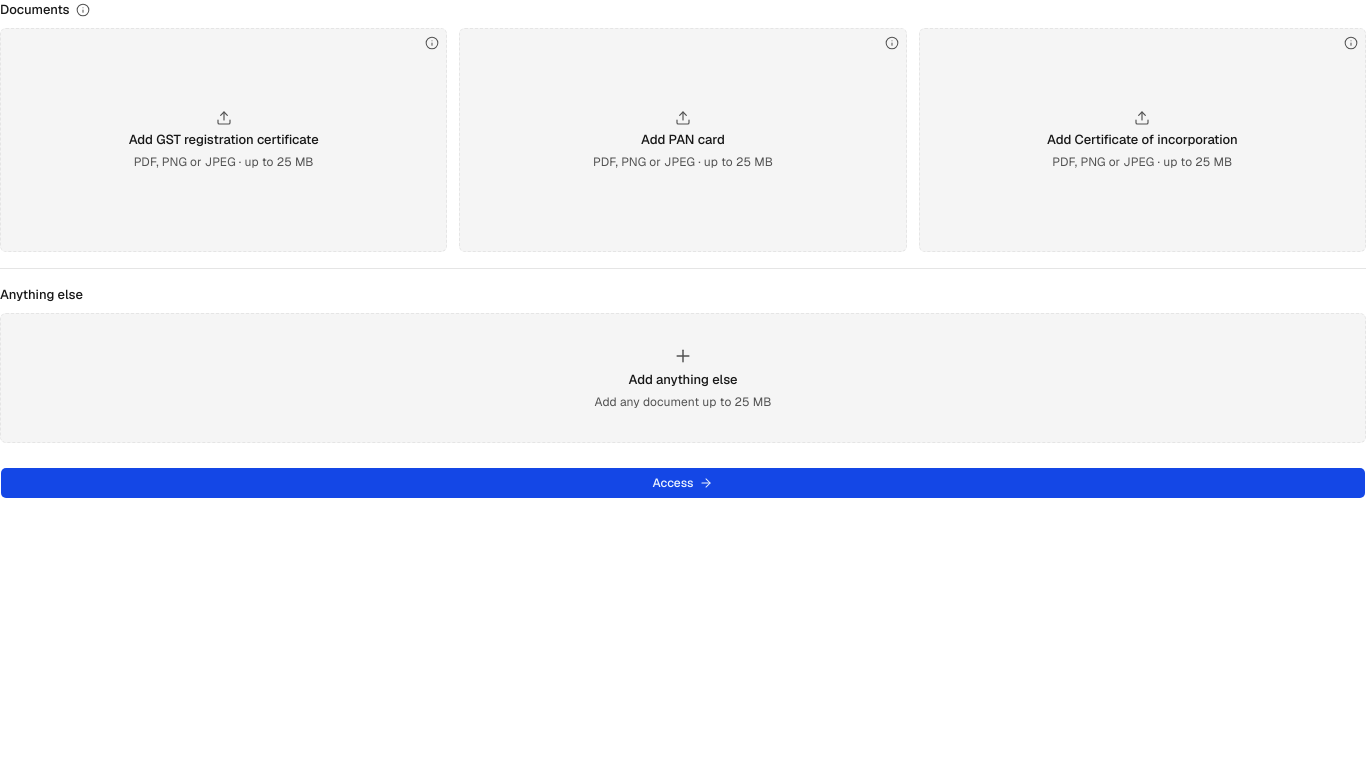
Scenario: the “anything else” picker › search narrows the list, and never hides the generic card
Click the button with aria-label "Drag and drop". click: (683, 378)
box: [0, 313, 1365, 443]
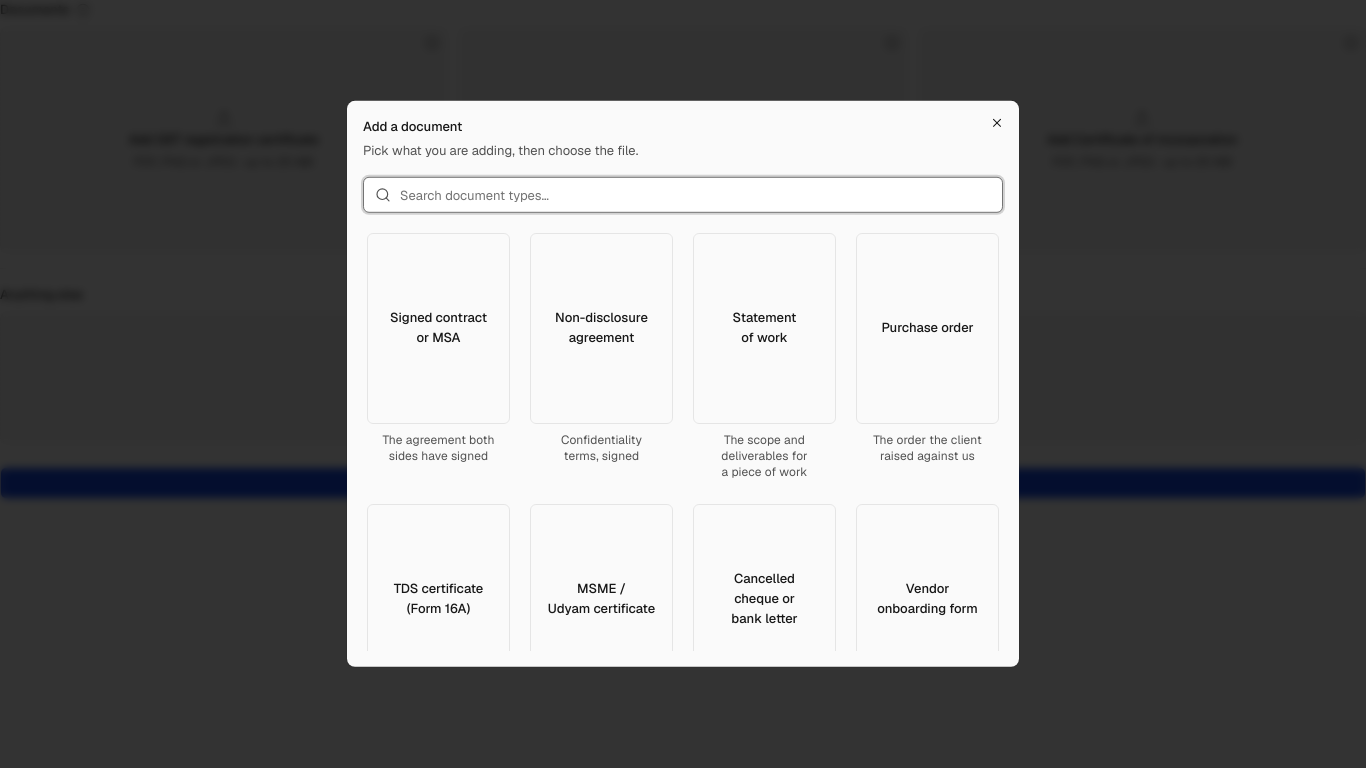
Type "purchase" into the search field labelled "Search document types…". click: (683, 195)
box: [363, 177, 1003, 213]
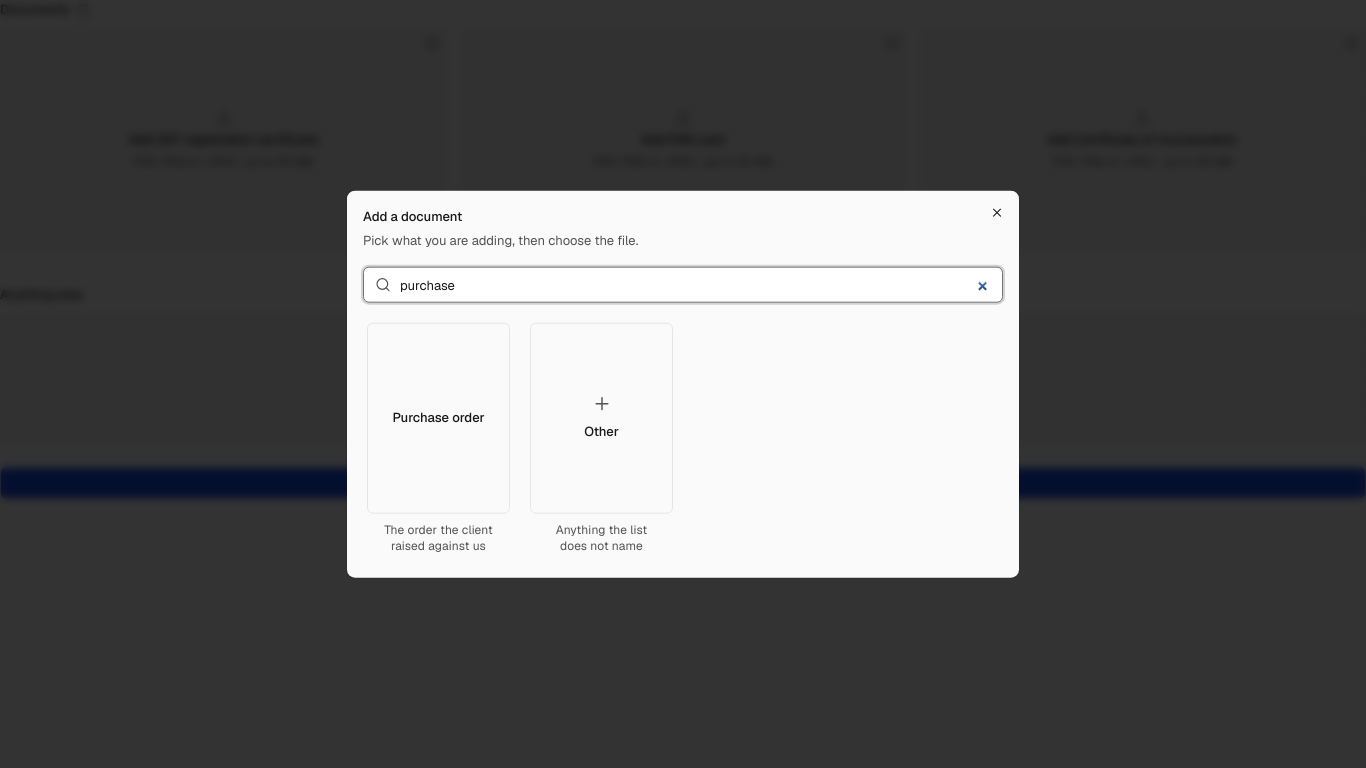
Check: the button "Purchase order The order the client raised against us" is shown, box [363, 319, 514, 561]
Clear the search field named "Search document types". click: (683, 285)
box: [363, 267, 1003, 303]
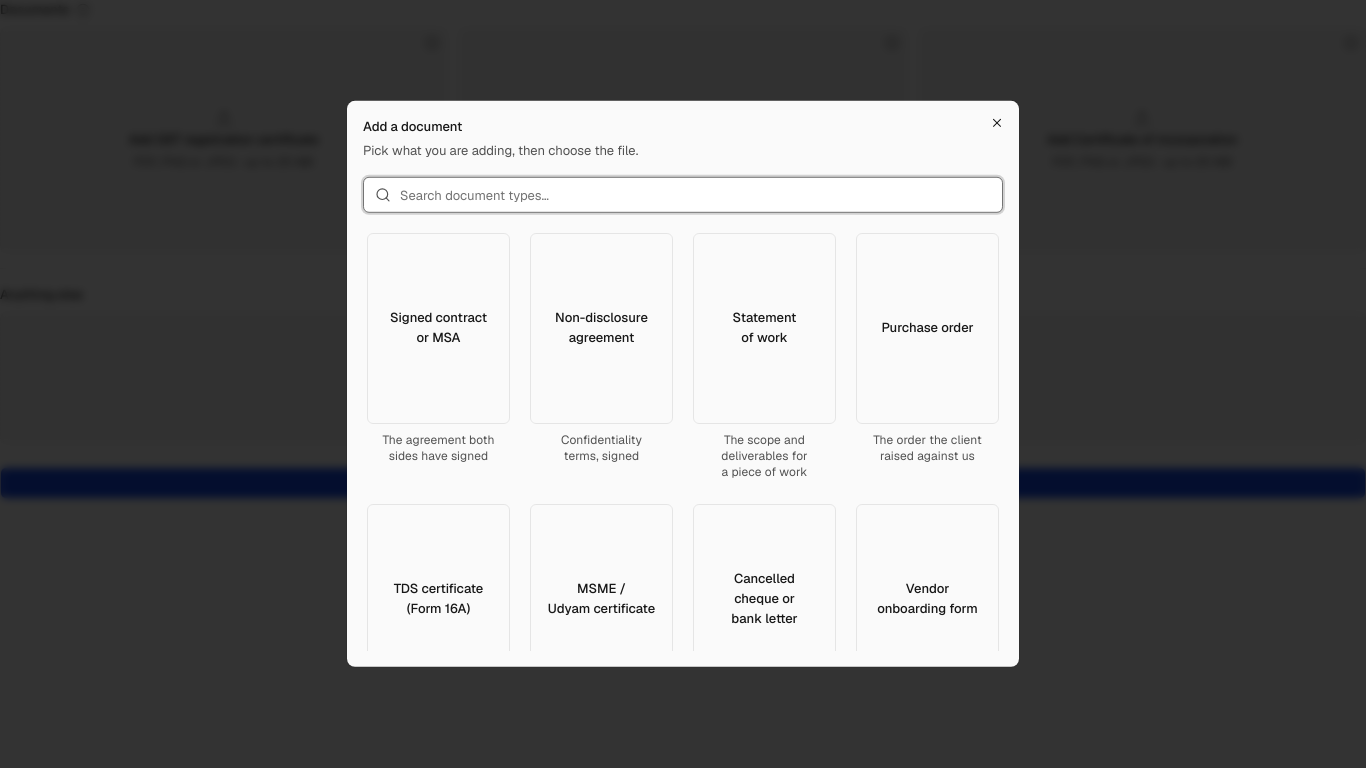
Type "zzz" into the search field labelled "Search document types…". click: (683, 195)
box: [363, 177, 1003, 213]
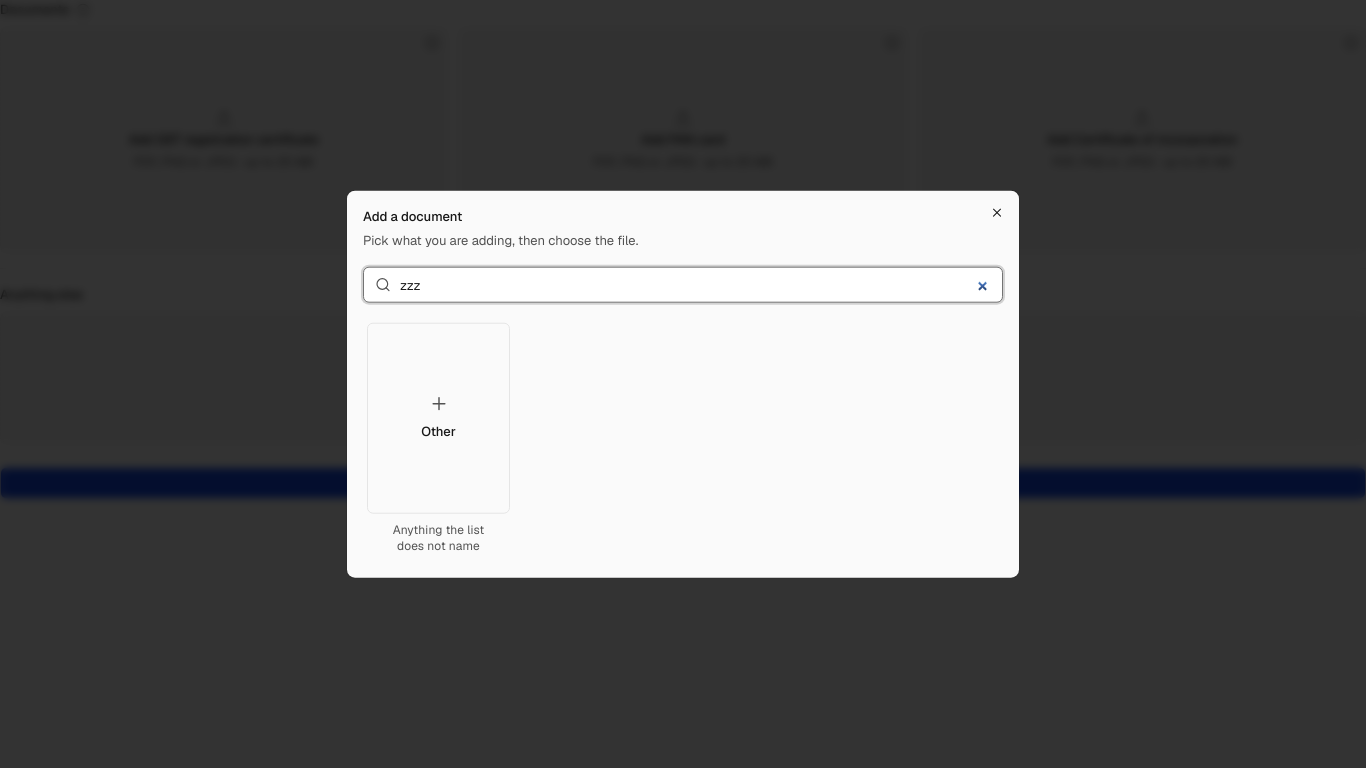
Check: the button "Other Anything the list does not name" is shown, box [363, 319, 514, 561]
